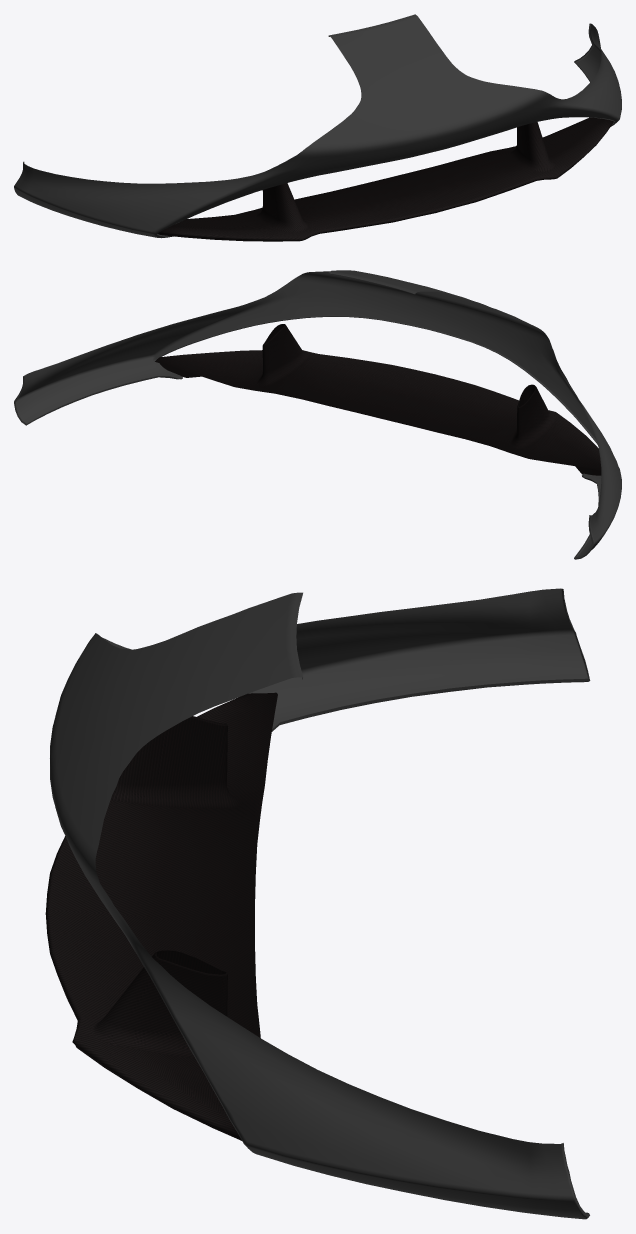
The model's file is bumper_f.glb.
3 views of the same model, one above another, from view 1: azimuth 30°, elevation 25°; view 2: azimuth 150°, elevation 25°; view 3: azimuth 270°, elevation 25° (orthographic). The views are drawn at different scales.
Visible parts, largest first — view 1: body:Kit0_Paint_Geo_lodABody_lodA_McLaren_Elva_2021Paint_Ma., Kit0_Carbon1_Geo_lodA_McLaren_Elva_2021Carbon1M_Material_0.0; view 2: body:Kit0_Paint_Geo_lodABody_lodA_McLaren_Elva_2021Paint_Ma., Kit0_Carbon1_Geo_lodA_McLaren_Elva_2021Carbon1M_Material_0.0; view 3: body:Kit0_Paint_Geo_lodABody_lodA_McLaren_Elva_2021Paint_Ma., Kit0_Carbon1_Geo_lodA_McLaren_Elva_2021Carbon1M_Material_0.0.
Boxes of the visible parts, x1,y1,x2,y2 form: body:Kit0_Paint_Geo_lodABody_lodA_McLaren_Elva_2021Paint_Ma.: [14, 14, 621, 238]; Kit0_Carbon1_Geo_lodA_McLaren_Elva_2021Carbon1M_Material_0.0: [158, 117, 613, 241]; body:Kit0_Paint_Geo_lodABody_lodA_McLaren_Elva_2021Paint_Ma.: [14, 270, 621, 559]; Kit0_Carbon1_Geo_lodA_McLaren_Elva_2021Carbon1M_Material_0.0: [155, 324, 601, 475]; body:Kit0_Paint_Geo_lodABody_lodA_McLaren_Elva_2021Paint_Ma.: [50, 588, 590, 1219]; Kit0_Carbon1_Geo_lodA_McLaren_Elva_2021Carbon1M_Material_0.0: [45, 692, 277, 1140].
Size of the model in its own units: 0.0188 by 0.00487 by 0.00762.
Materials: 2 (1 with a texture image).
